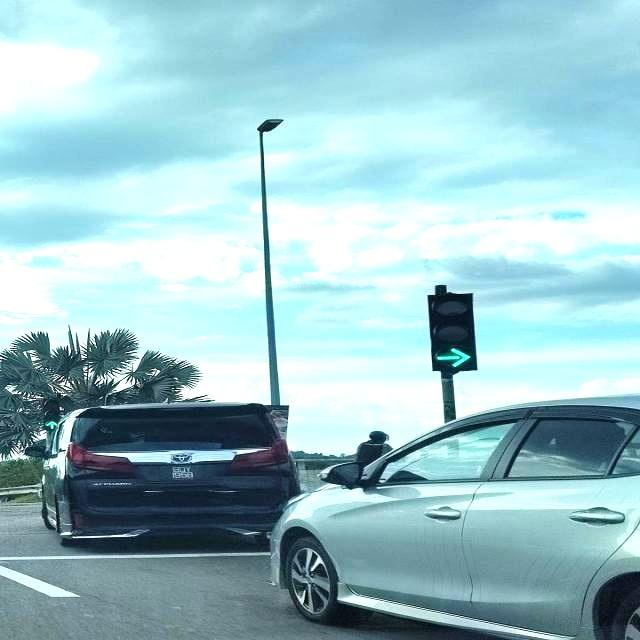Green: (428, 293, 478, 372)
